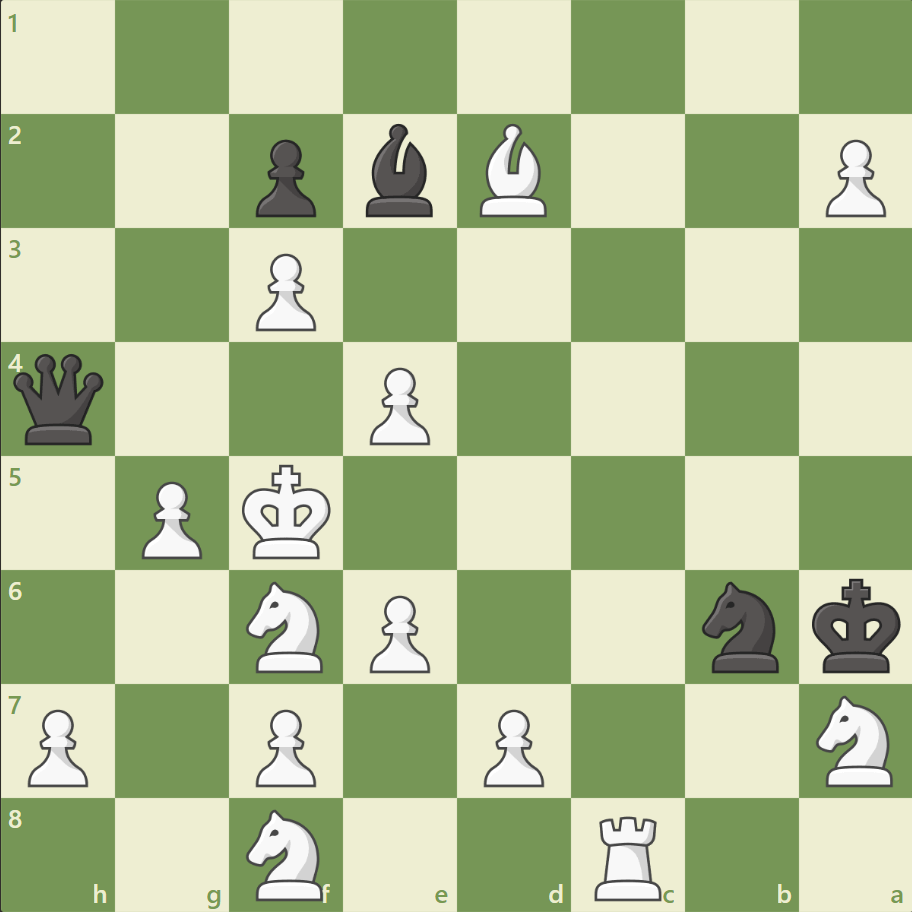B: (471, 120, 555, 222)
K: (238, 458, 338, 566)
N: (806, 688, 903, 791), (238, 802, 335, 904), (238, 575, 335, 677)
P: (474, 700, 549, 791), (247, 700, 322, 791), (20, 700, 95, 791), (133, 473, 208, 564), (247, 246, 322, 337), (361, 586, 435, 677), (361, 359, 435, 450), (815, 132, 889, 223)
R: (587, 806, 670, 904)
b: (358, 120, 442, 222)
k: (806, 571, 906, 679)
n: (692, 575, 789, 677)
p: (247, 132, 322, 223)
q: (10, 349, 109, 449)
